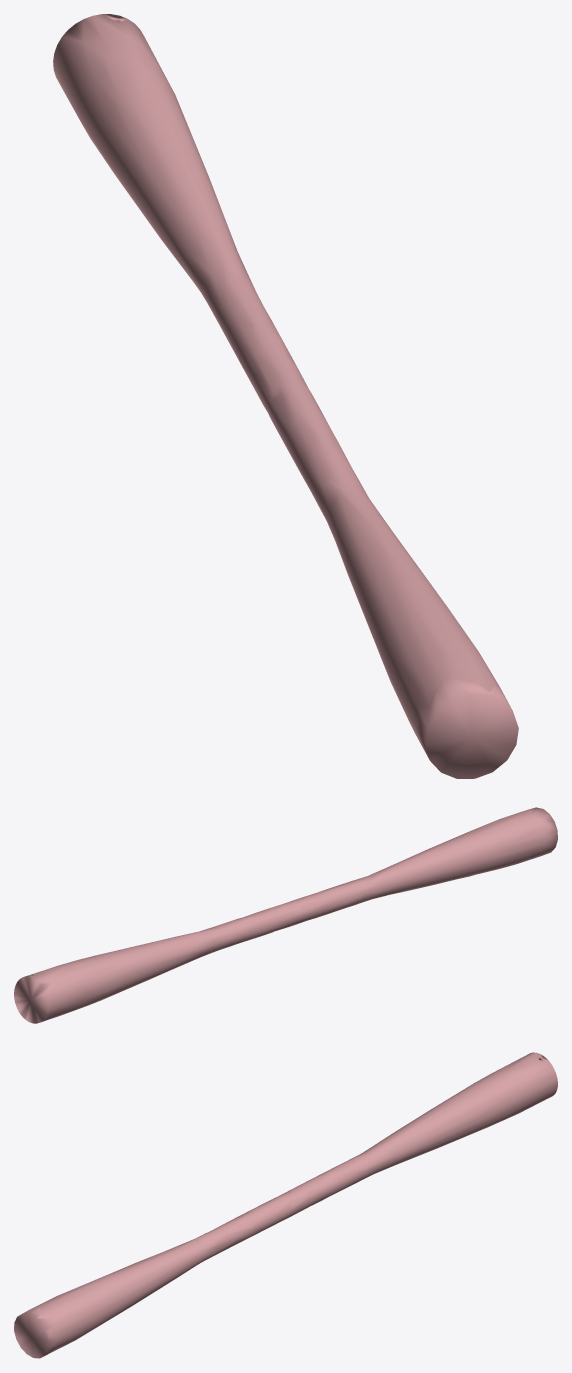
The model's file is fma64149_mm1173.glb.
The picture shows the model from 3 angles, top to bottom: view 1: azimuth 30°, elevation 25°; view 2: azimuth 150°, elevation 25°; view 3: azimuth 330°, elevation 25°; orthographic projection. The views are drawn at different scales.
Visible parts, largest first — view 1: FMA64149_MM1173; view 2: FMA64149_MM1173; view 3: FMA64149_MM1173.
Part boxes in pixels (x1,y1,x2,y2): FMA64149_MM1173: (53,14,518,778); FMA64149_MM1173: (14,807,557,1023); FMA64149_MM1173: (14,1052,557,1358).
Size of the model in its own units: 0.00656 by 0.00278 by 0.0199.
